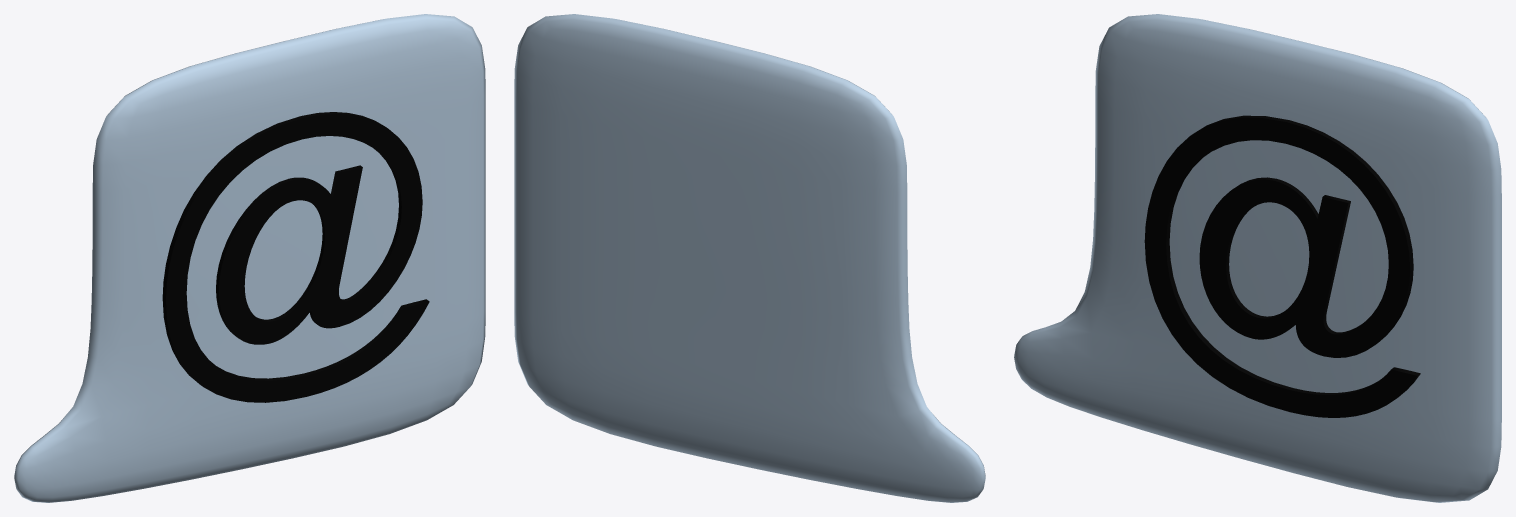
File: fosh4.fbx
3 renders of one model, left to right at view 1: azimuth 30°, elevation 25°; view 2: azimuth 150°, elevation 25°; view 3: azimuth 330°, elevation 25°, orthographic. The views are drawn at different scales.
Visible parts, largest first — view 1: Cube, Text; view 2: Cube; view 3: Cube, Text.
Boxes of the visible parts, <box> form: Cube: <box>14,14,485,502</box>; Text: <box>162,112,429,402</box>; Cube: <box>514,14,985,502</box>; Cube: <box>1014,14,1501,502</box>; Text: <box>1144,115,1420,417</box>.
Bounding box in the file's own units: 125 × 106 × 10.51.
